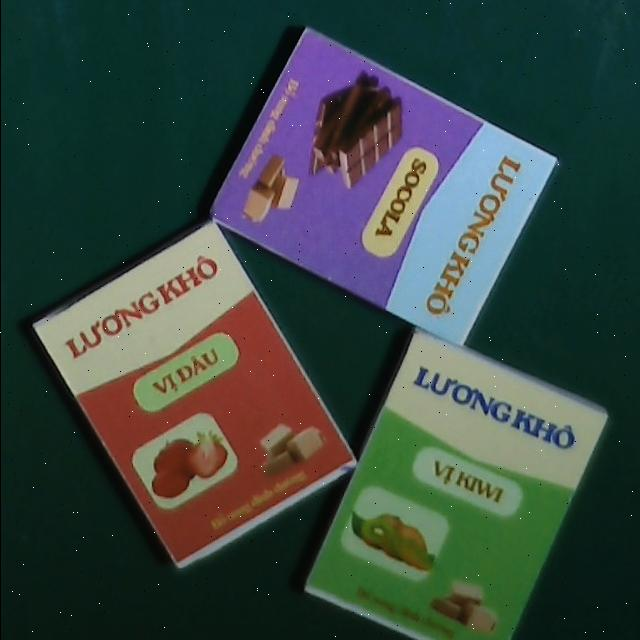dau: (27, 215, 362, 576)
kiwi: (299, 324, 611, 640)
socola: (204, 26, 558, 350)
